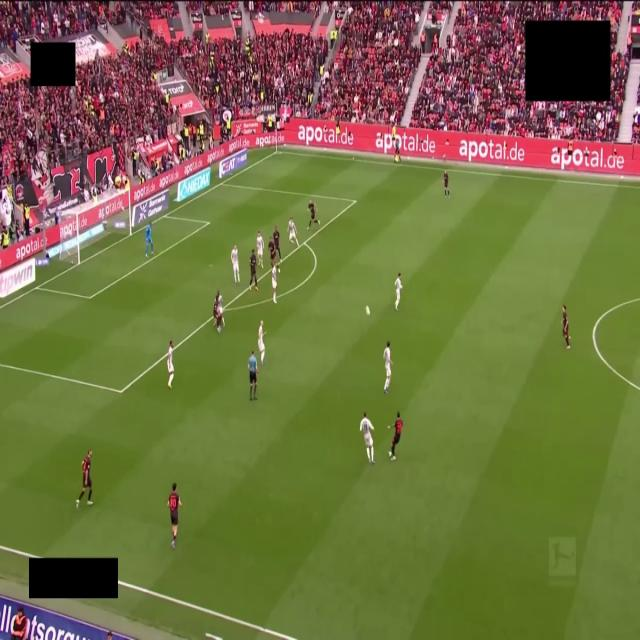ball: (366, 306, 370, 315)
player: (76, 449, 92, 508), (168, 483, 181, 548), (360, 412, 374, 463), (389, 412, 403, 461), (383, 341, 392, 394), (213, 291, 222, 332), (249, 250, 258, 290), (562, 305, 570, 349), (268, 236, 278, 268), (258, 320, 265, 365), (231, 246, 239, 285), (394, 273, 402, 311), (167, 341, 173, 389), (308, 200, 318, 228), (289, 218, 299, 246), (273, 227, 281, 262), (145, 222, 153, 256), (257, 232, 263, 267), (218, 294, 224, 328), (272, 265, 277, 303), (443, 171, 450, 198)
referee: (248, 352, 257, 400)
